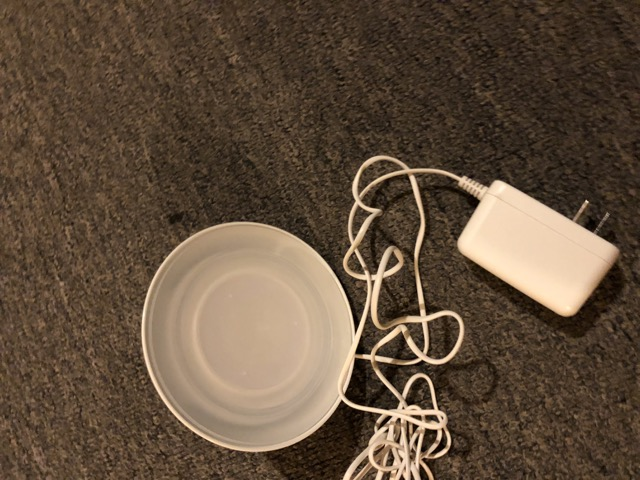light: (144, 198, 356, 466)
